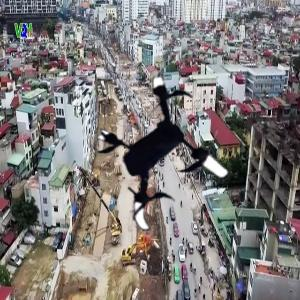drone: (87, 79, 246, 238)
